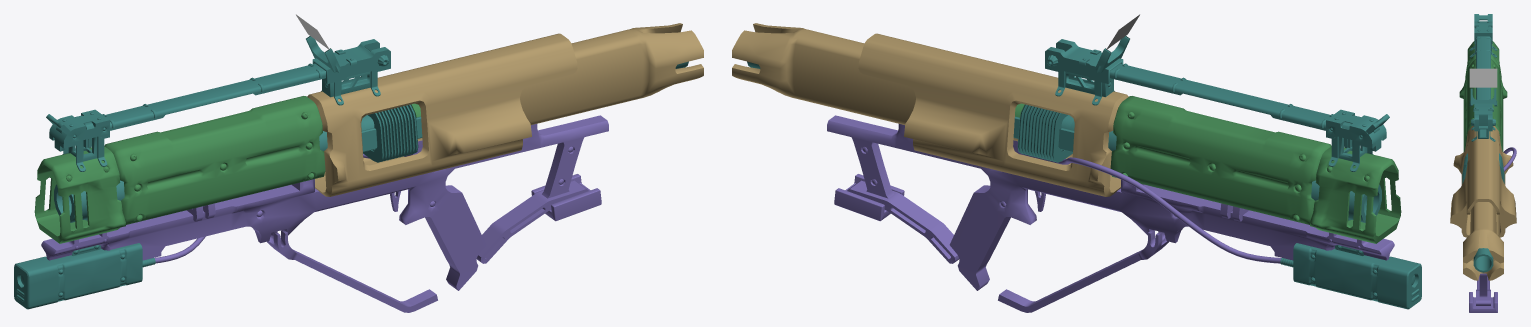
Rendered from Recharger rifle.fbx.
The picture shows the model from 3 angles, left to right: view 1: azimuth 30°, elevation 25°; view 2: azimuth 150°, elevation 25°; view 3: azimuth 270°, elevation 25°; orthographic projection. The views are drawn at different scales.
Visible parts, largest first — view 1: ub1_low, uc1_low, ua2_low, ub2_low, ud3_low, ua1_low, ud9_low, uc4_low, ud4_low, uc2_low, uc7_low, ud5_low (+4 smaller); view 2: ub1_low, ua2_low, uc1_low, ub2_low, ud3_low, ua1_low, ud9_low, uc7_low, uc4_low, ud4_low, uc2_low, ud5_low (+4 smaller); view 3: ub1_low, ub2_low, ua2_low, ud9_low, xifenpolySurface368, uc7_low, ud4_low, ud3_low, ua1_low, ud11_low, ud12_low, uc1_low (+5 smaller).
Boxes of the visible parts, x1,y1,x2,y2 form: ub1_low: (307,33,577,196); uc1_low: (41,115,608,290); ua2_low: (104,96,325,224); ub2_low: (520,23,703,124); ud3_low: (14,39,390,309); ua1_low: (34,146,125,243); ud9_low: (106,63,325,130); uc4_low: (476,180,588,263); ud4_low: (46,36,422,161); uc2_low: (267,230,437,312); uc7_low: (154,153,601,263); ud5_low: (363,105,415,162); ub1_low: (858,33,1128,196); ua2_low: (1110,96,1331,224); uc1_low: (827,115,1394,290); ub2_low: (732,23,915,124); ud3_low: (1045,39,1421,309); ua1_low: (1310,146,1401,243); ud9_low: (1110,63,1329,130); uc7_low: (834,154,1281,263); uc4_low: (847,180,959,263); ud4_low: (1013,36,1389,161); uc2_low: (998,230,1168,312); ud5_low: (1020,105,1072,162); ub1_low: (1450,126,1516,237); ub2_low: (1463,202,1503,280); ua2_low: (1463,59,1503,151); ud9_low: (1476,36,1490,99); xifenpolySurface368: (1469,68,1497,87); uc7_low: (1469,147,1516,312); ud4_low: (1469,14,1497,138); ud3_low: (1474,103,1492,131); ua1_low: (1459,41,1507,98); ud11_low: (1473,248,1493,272); ud12_low: (1474,21,1492,43); uc1_low: (1477,273,1489,297).
Size of the model in its own units: 99.19 by 44.33 by 13.44.
